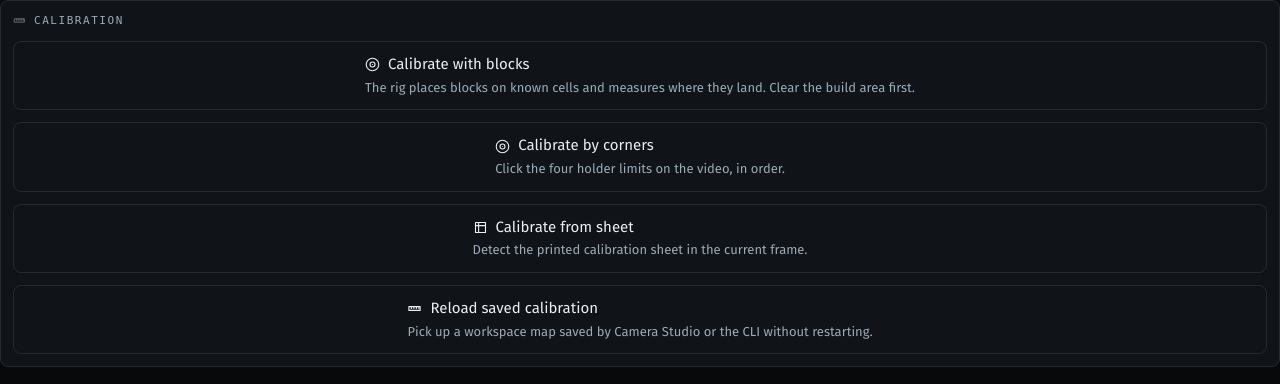
Test: calibration wizard › tracks which corner is being collected
Click the button "Calibrate": [640, 157] box [13,122,1267,192]
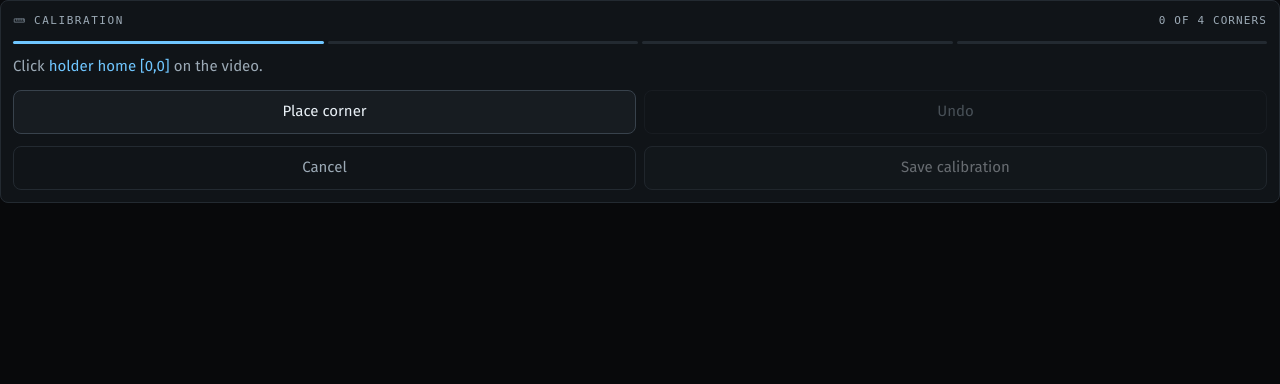
Expected: the text "0 of 4 corners" is shown, [1159,14,1267,28]
Click the button "Place corner": [324, 112] box [13,90,636,134]
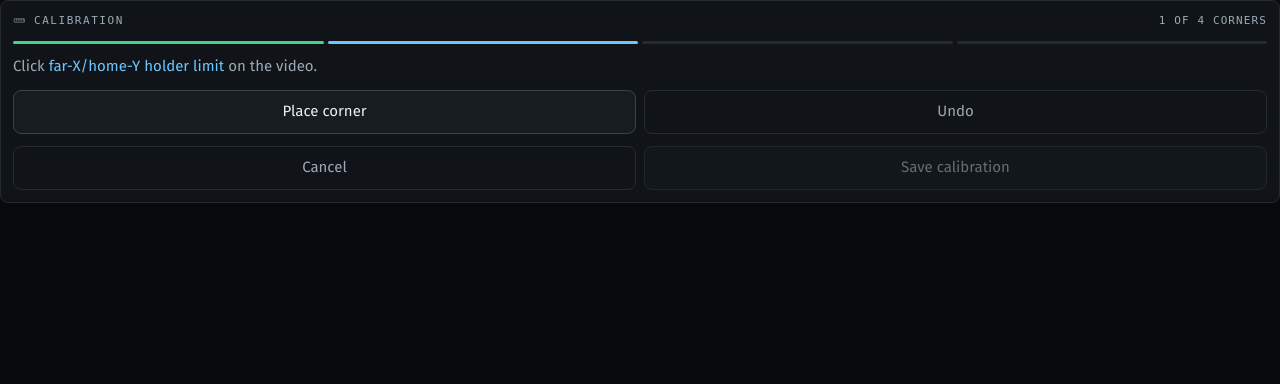
Expected: the text "1 of 4 corners" is shown, [1159,14,1267,28]
Expected: the text "far-X/home-Y holder limit" is shown, [49,57,224,75]
